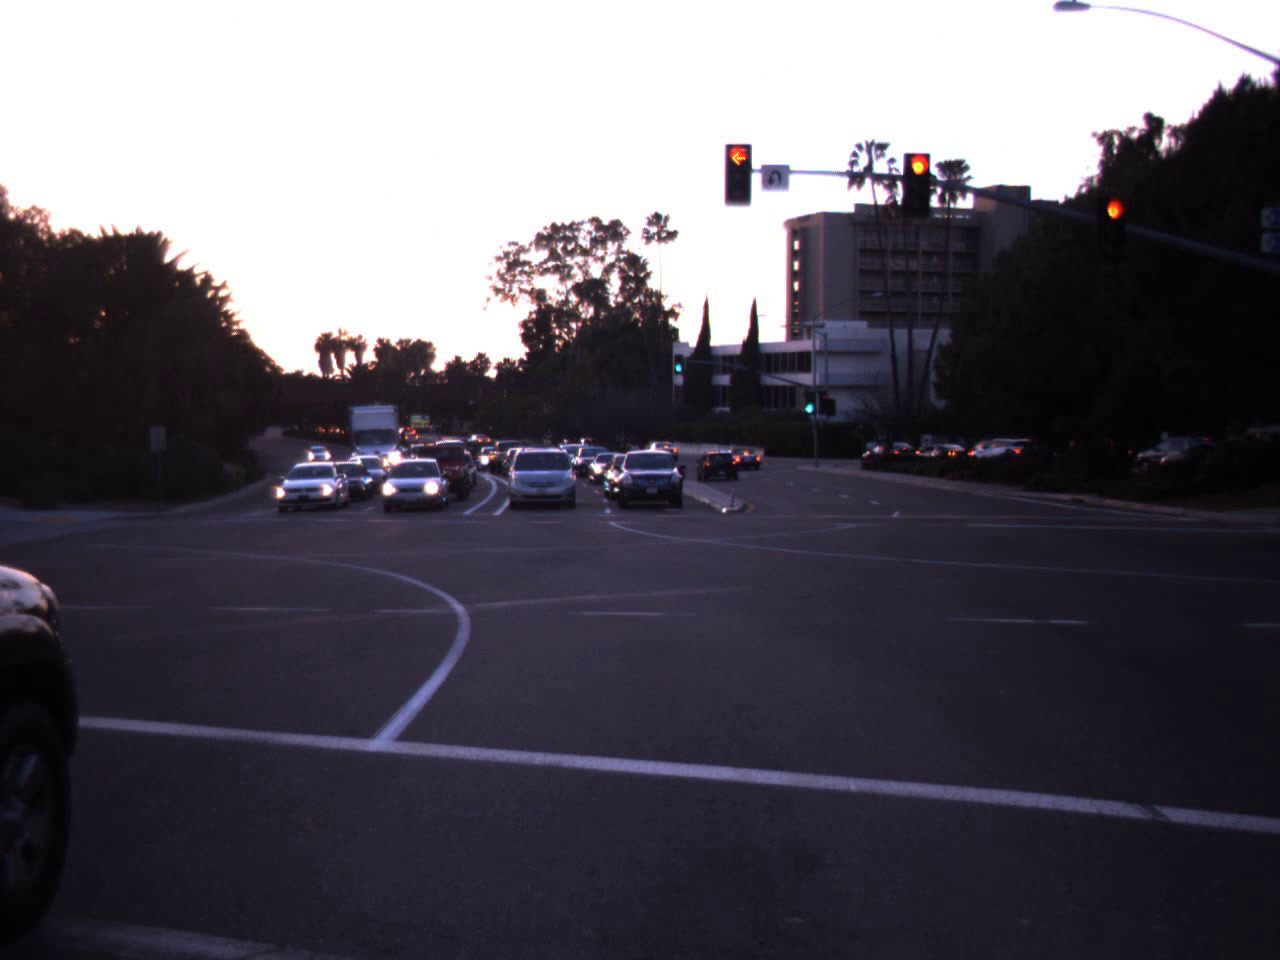go: (800, 380, 818, 415), (671, 352, 686, 372)
stop: (896, 147, 944, 228), (1096, 194, 1132, 266), (714, 143, 762, 188)
